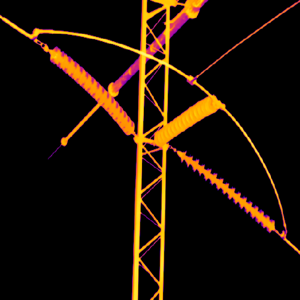insulator: (46, 45, 135, 135), (177, 150, 274, 231), (152, 94, 218, 145)
